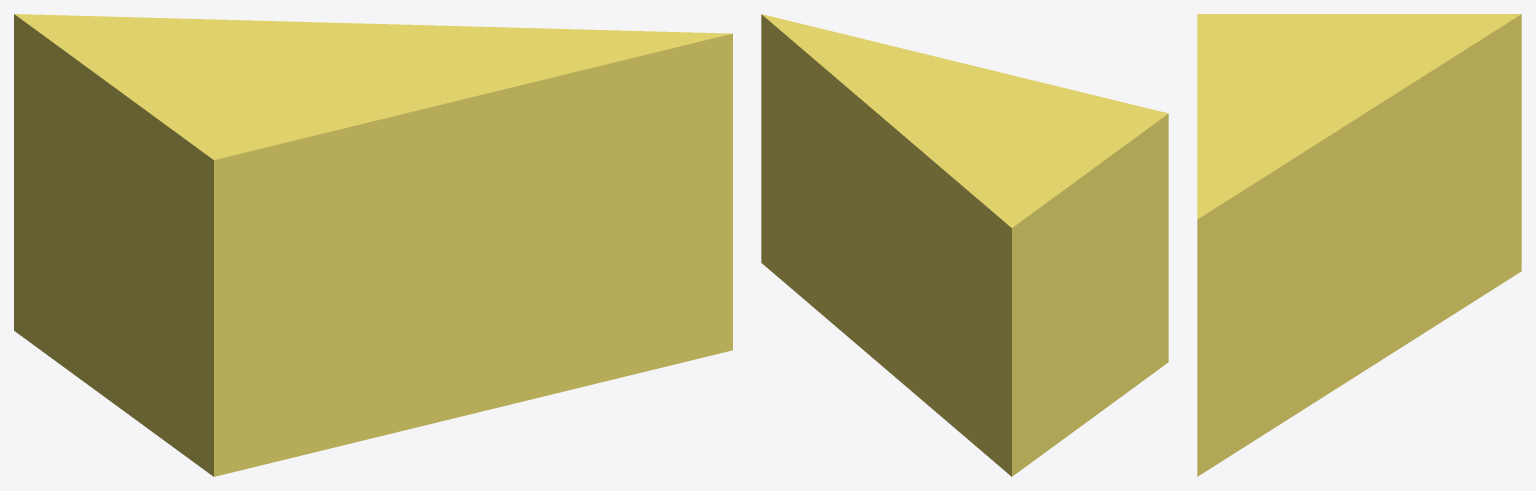
File: wedge.glb
The picture shows the model from 3 angles, left to right: view 1: azimuth 30°, elevation 25°; view 2: azimuth 150°, elevation 25°; view 3: azimuth 270°, elevation 25°; orthographic projection. The views are drawn at different scales.
Bounding box in the file's own units: 24 × 14 × 16.
